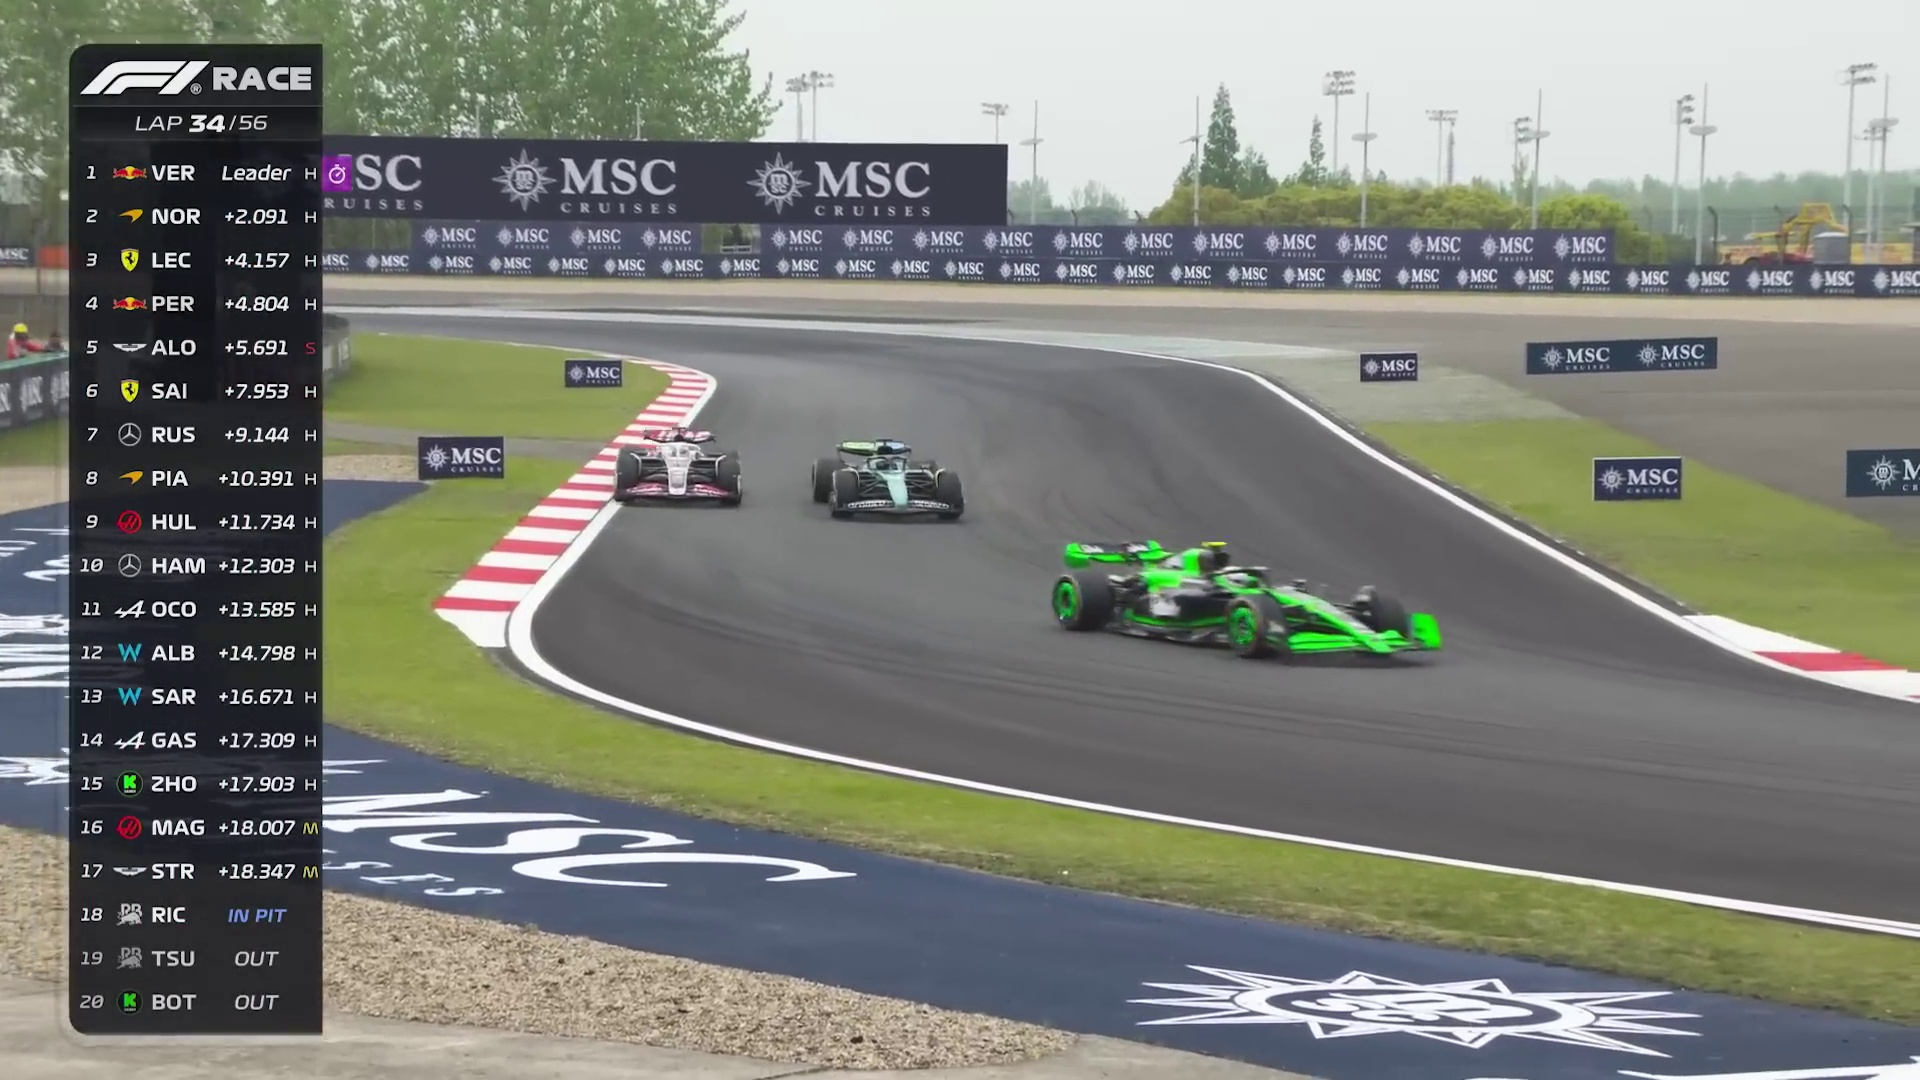AstonMartin: (815, 443, 963, 523)
Haas: (615, 429, 747, 510)
Sauber: (1059, 543, 1440, 660)
